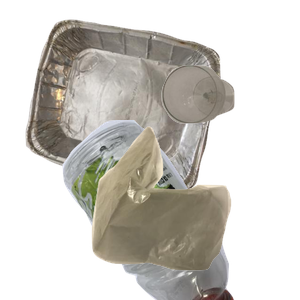glass: (159, 63, 300, 179)
metal: (23, 17, 236, 197)
plastic: (25, 120, 252, 300)
trash: (89, 124, 300, 300)
